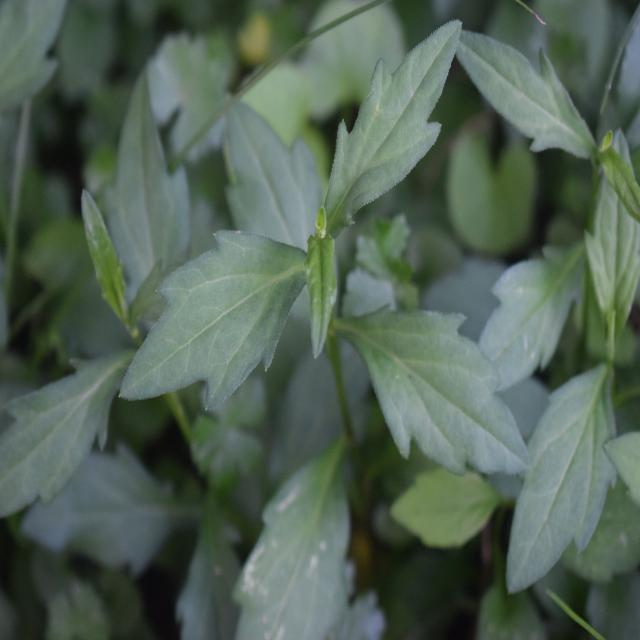Indian aster: (163, 31, 529, 484)
